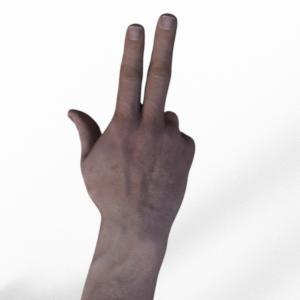scissors: (68, 14, 195, 300)
